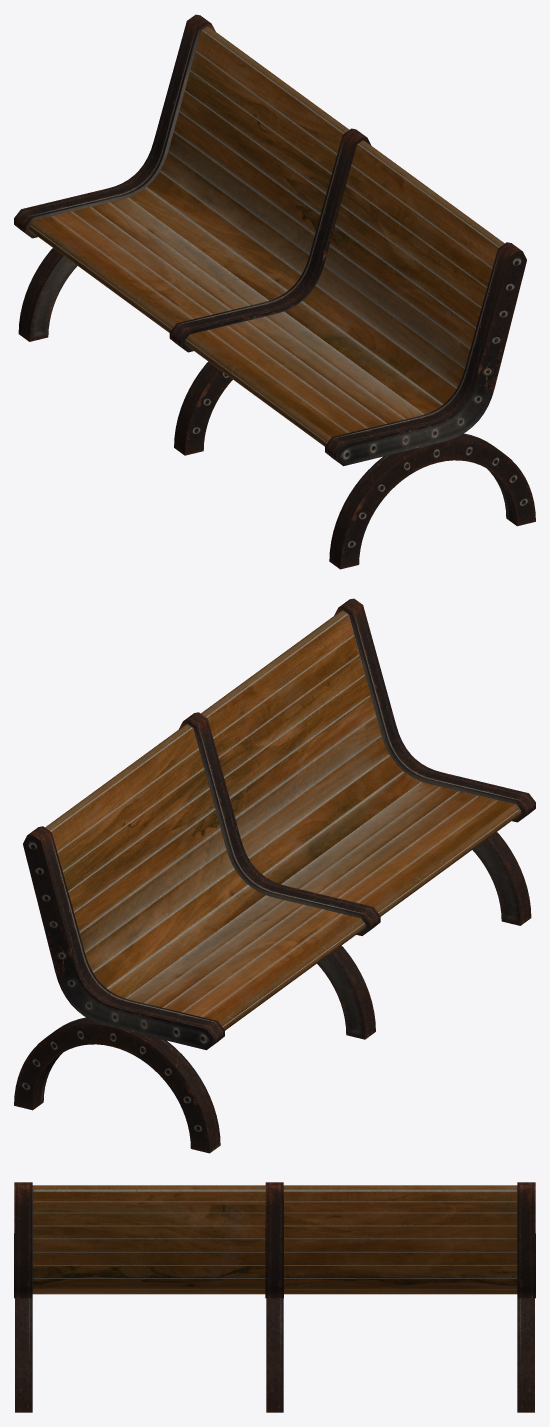
The model's file is SM_Bench02.FBX.
3 views of the same model, one above another, from view 1: azimuth 30°, elevation 25°; view 2: azimuth 150°, elevation 25°; view 3: azimuth 270°, elevation 25° (orthographic). The views are drawn at different scales.
Visible parts, largest first — view 1: SM_Bench02; view 2: SM_Bench02; view 3: SM_Bench02.
Part boxes in pixels (box(x1,y1,x2,y2)): SM_Bench02: box(14, 14, 535, 569); SM_Bench02: box(14, 598, 535, 1153); SM_Bench02: box(14, 1182, 535, 1412).
Size of the model in its own units: 77.02 by 215 by 102.
